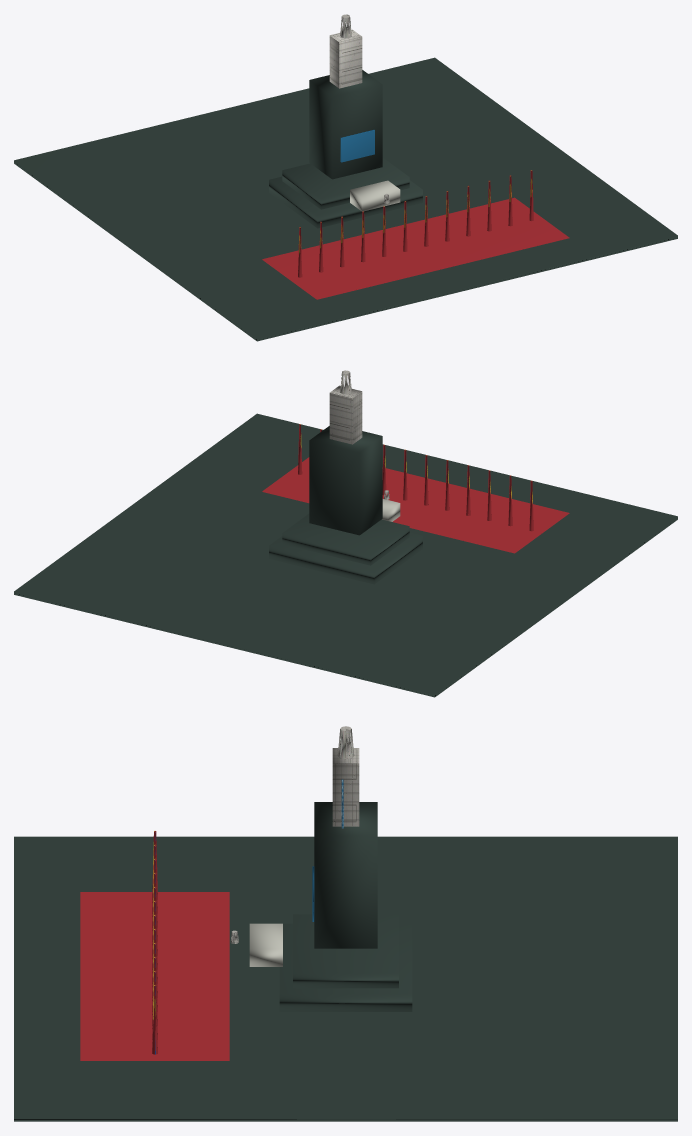
3 renders of one model, top to bottom at view 1: azimuth 30°, elevation 25°; view 2: azimuth 150°, elevation 25°; view 3: azimuth 270°, elevation 25°, orthographic. The views are drawn at different scales.
Parts seen in each view (by area): view 1: leesunshin_ground_lod2, leesunshin_fountain_lod2, leesunshin_pedestal_lod2, leesunshin_statue_lod2; view 2: leesunshin_ground_lod2, leesunshin_pedestal_lod2, leesunshin_fountain_lod2, leesunshin_statue_lod2; view 3: leesunshin_ground_lod2, leesunshin_fountain_lod2, leesunshin_pedestal_lod2, leesunshin_statue_lod2.
Boxes of the visible parts, x1=… form: leesunshin_ground_lod2: x1=14, y1=57, x2=677, y2=341; leesunshin_fountain_lod2: x1=262, y1=170, x2=569, y2=299; leesunshin_pedestal_lod2: x1=269, y1=70, x2=422, y2=228; leesunshin_statue_lod2: x1=329, y1=14, x2=400, y2=211; leesunshin_ground_lod2: x1=14, y1=413, x2=677, y2=697; leesunshin_pedestal_lod2: x1=269, y1=426, x2=422, y2=584; leesunshin_fountain_lod2: x1=262, y1=424, x2=569, y2=553; leesunshin_statue_lod2: x1=329, y1=370, x2=400, y2=521; leesunshin_ground_lod2: x1=14, y1=836, x2=677, y2=1121; leesunshin_fountain_lod2: x1=80, y1=831, x2=229, y2=1060; leesunshin_pedestal_lod2: x1=279, y1=802, x2=412, y2=1011; leesunshin_statue_lod2: x1=230, y1=726, x2=359, y2=966.
Size of the model in its own units: 40 by 16.8 by 40.
3 materials, 3 textured.
